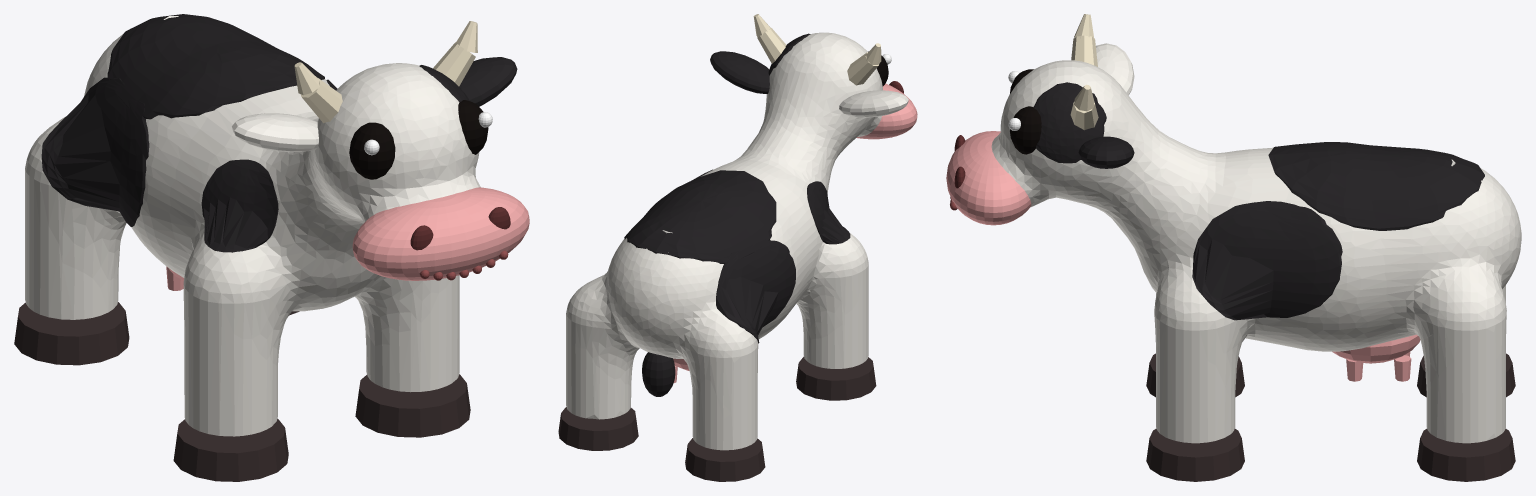
The model's file is inek.glb.
3 renders of one model, left to right at view 1: azimuth 30°, elevation 25°; view 2: azimuth 150°, elevation 25°; view 3: azimuth 270°, elevation 25°, orthographic. The views are drawn at different scales.
Visible parts, largest first — view 1: inek; view 2: inek; view 3: inek.
Part boxes in pixels (x1,y1,x2,y2): inek: (14, 14, 529, 481); inek: (558, 14, 917, 481); inek: (946, 14, 1521, 481).
Size of the model in its own units: 0.174 by 0.2592 by 0.3613.
